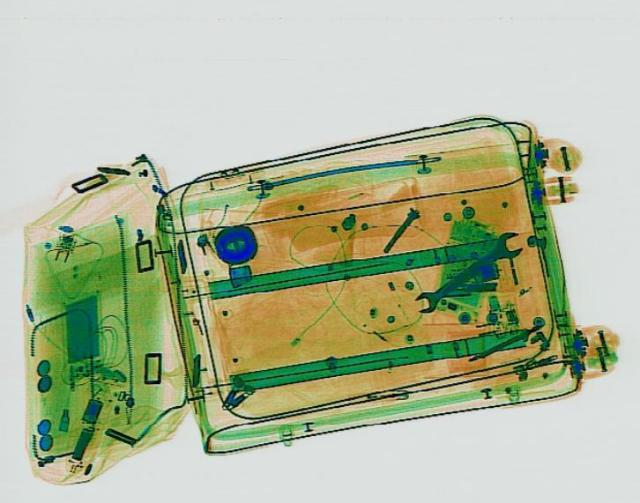Wrench: (403, 227, 532, 316)
